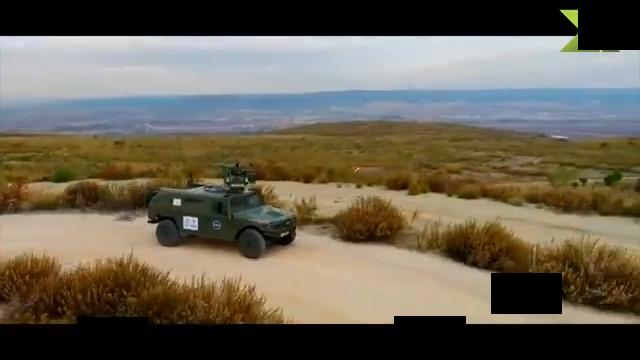MIL_HMMWV: (145, 183, 297, 261)
